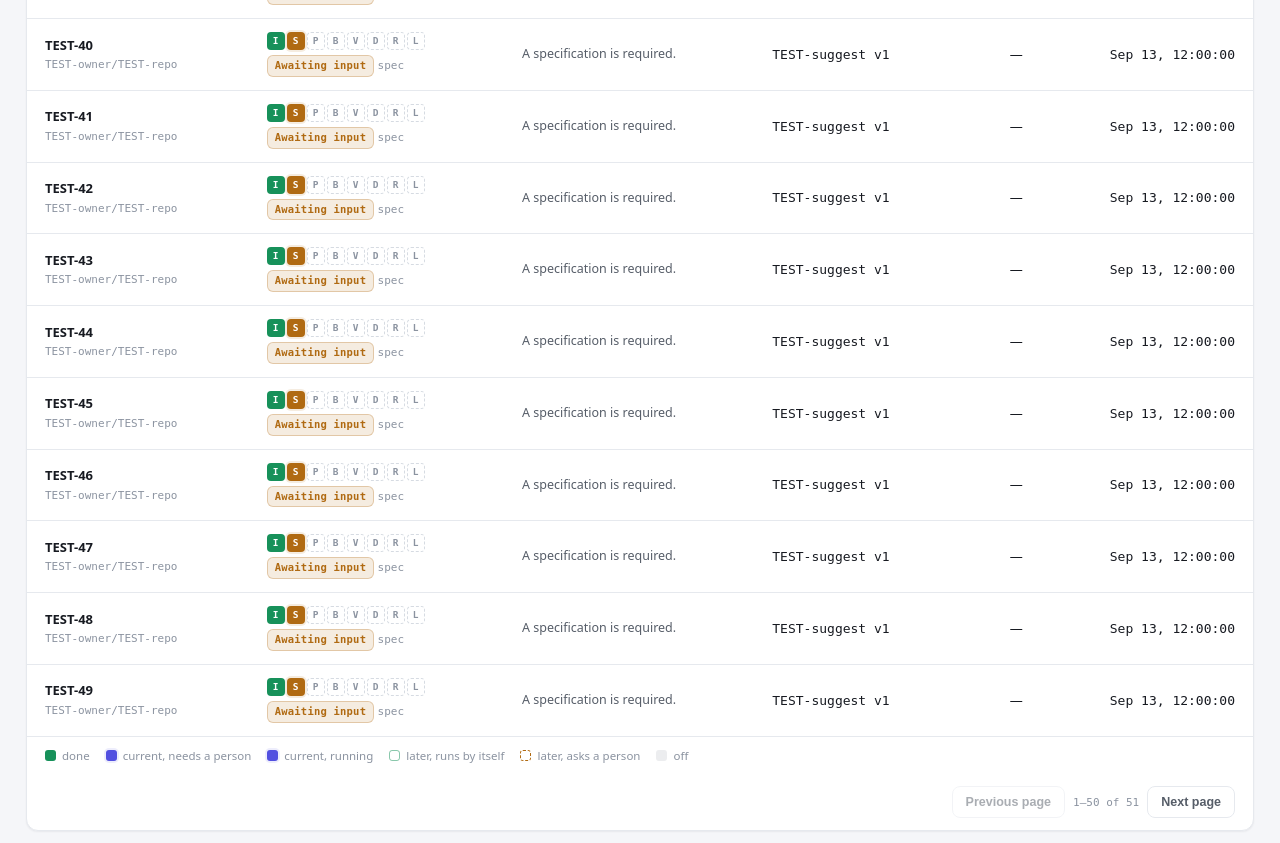
Test case: loads the second persisted page rather than filtering a fixed window
The width and height of the screenshot is (1280, 843).
(page scrolled)
Expected: the button "Previous page" is disabled, [952, 786, 1065, 818]
Click the button "Next page" at (1191, 802), box [1147, 786, 1235, 818]
(page scrolled)
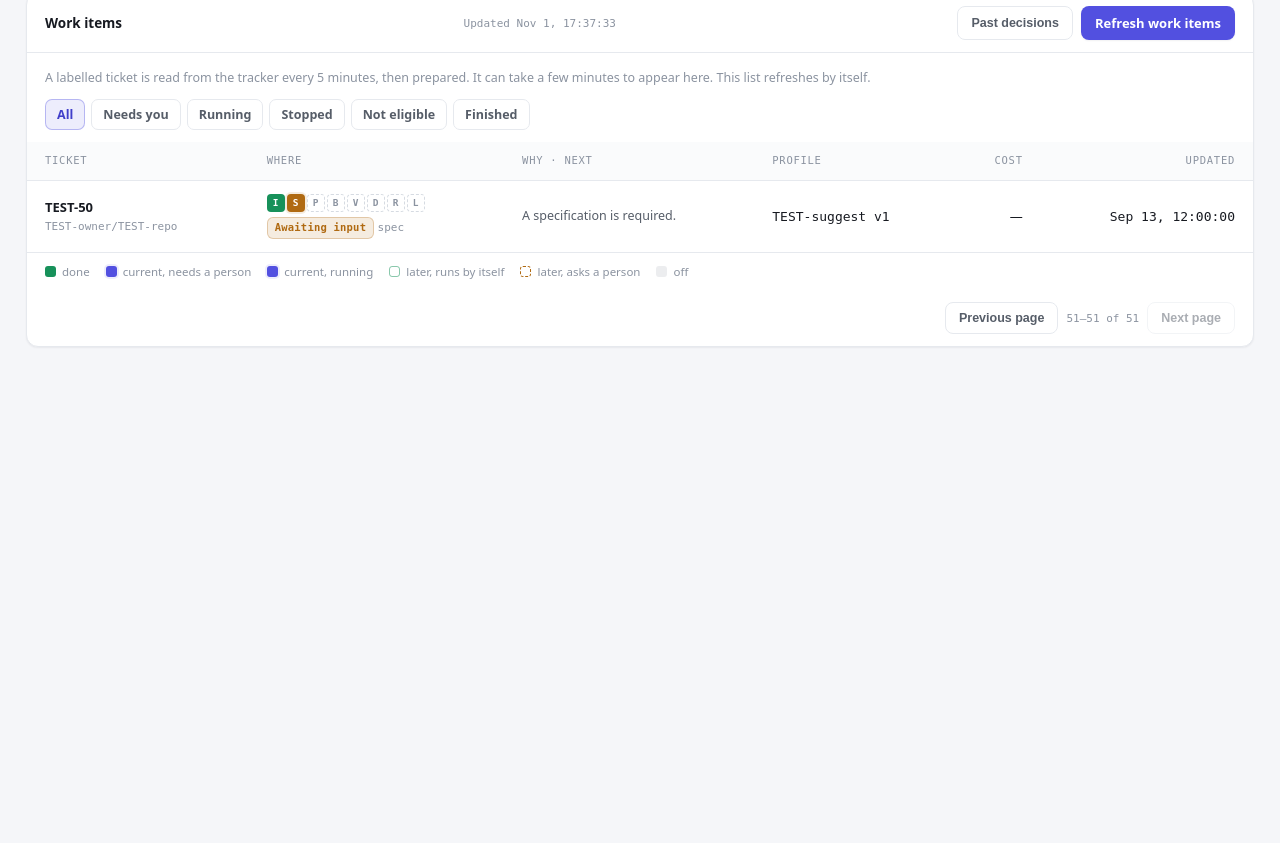
Expected: the link "TEST-50" is shown, [45, 198, 93, 216]
Expected: the button "Next page" is disabled, [1147, 302, 1235, 334]
Click the button "Previous page" at (1002, 318), box [945, 302, 1058, 334]
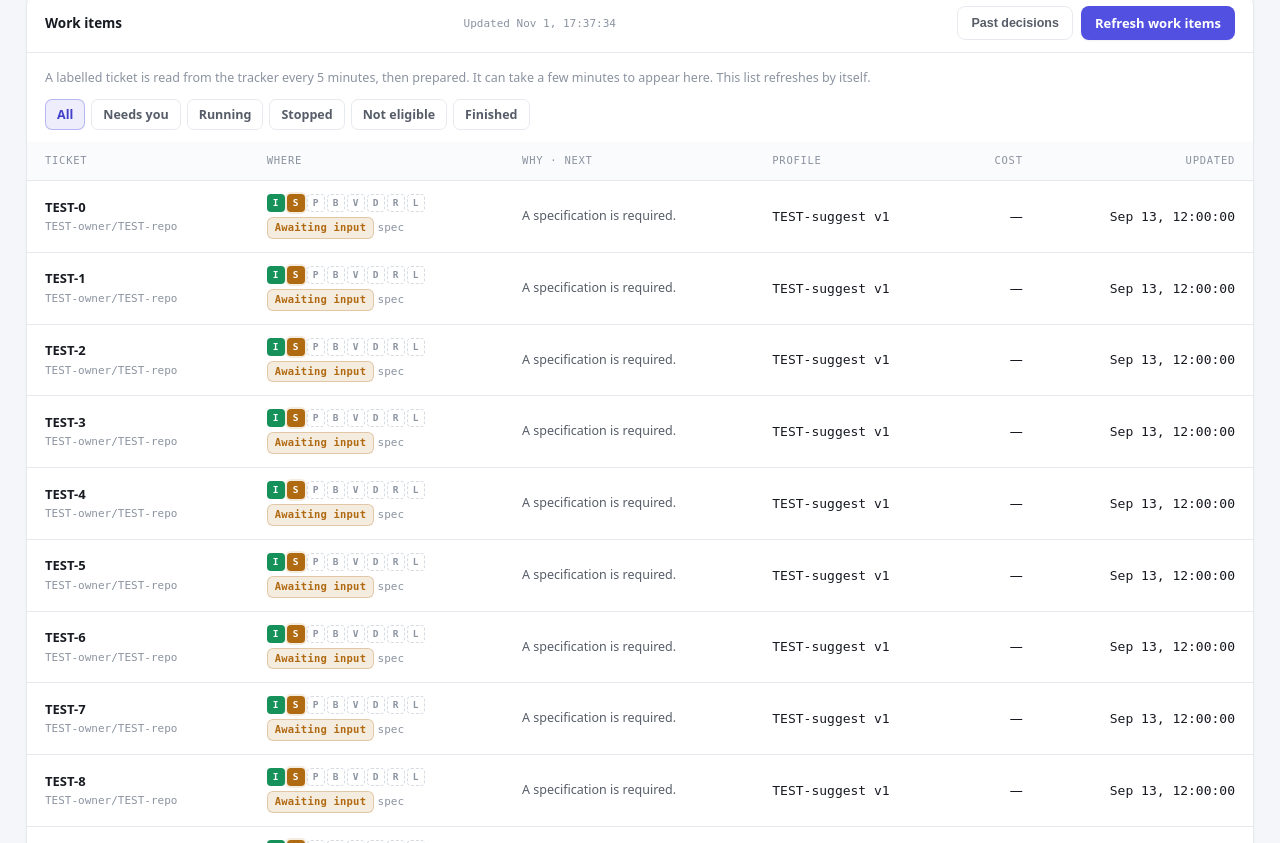
Expected: the link "TEST-0" is shown, [45, 198, 86, 216]
